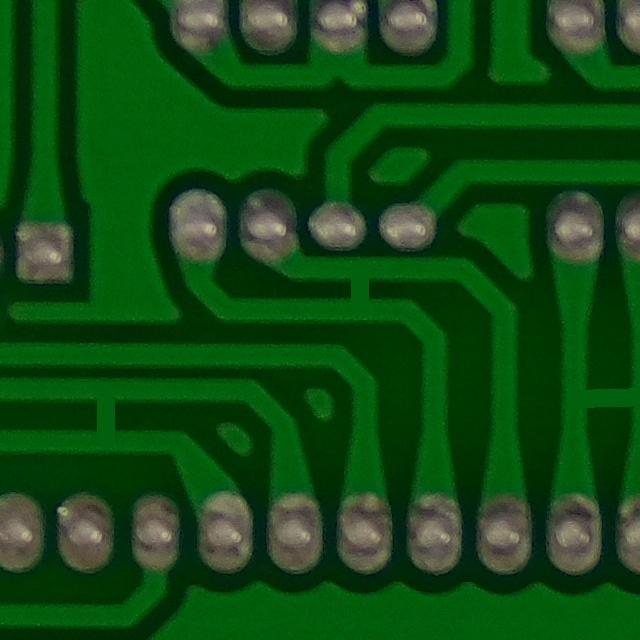short: (57, 373, 154, 461), (316, 246, 406, 336), (550, 363, 640, 446)
